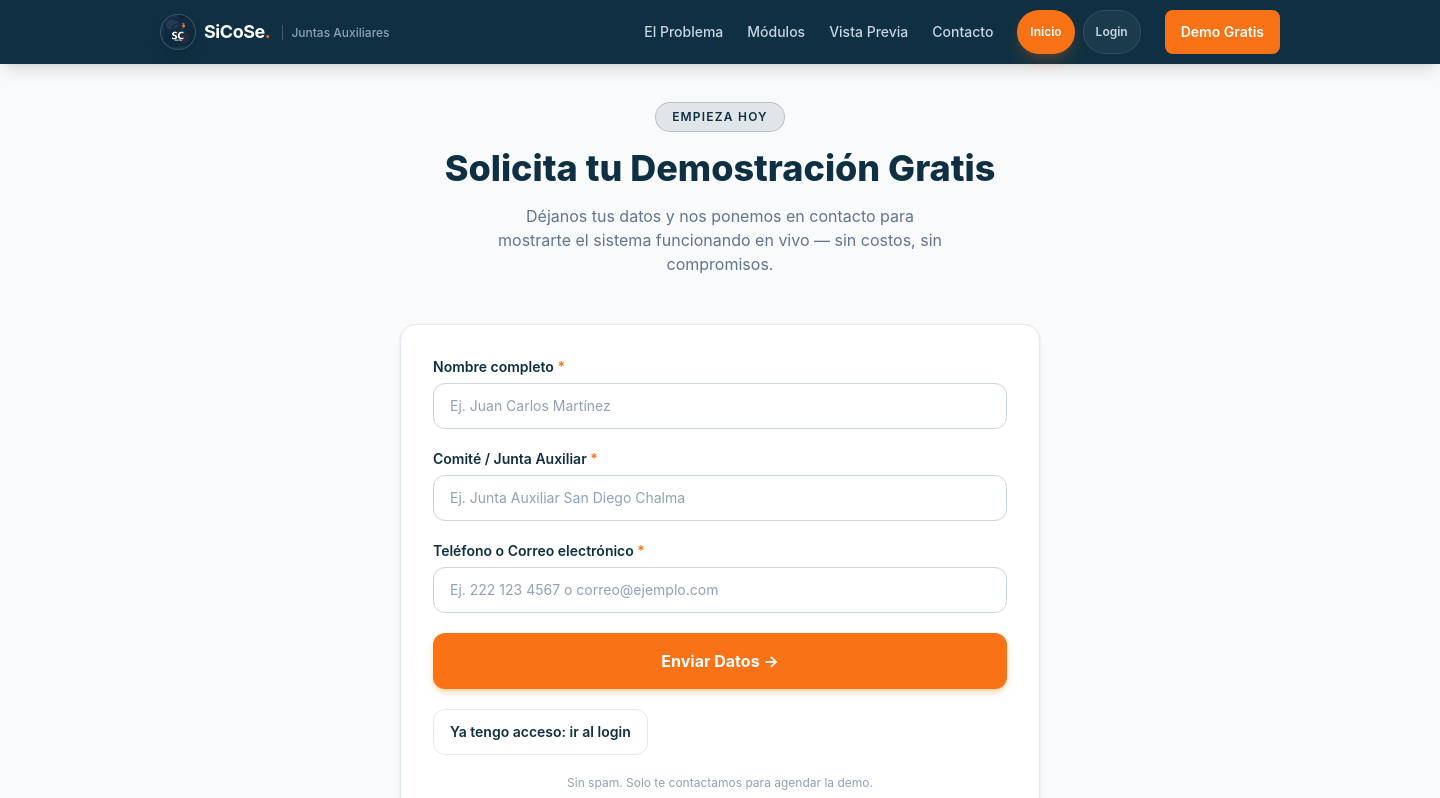
Test: LandingPage › posts contact data to the leads endpoint using the normalized payload
(page scrolled)
Type "  Juan Pérez  " into the field labelled "Nombre completo *".
click(720, 406); type("  Juan Pérez  ")  # box [433,383,1007,429]
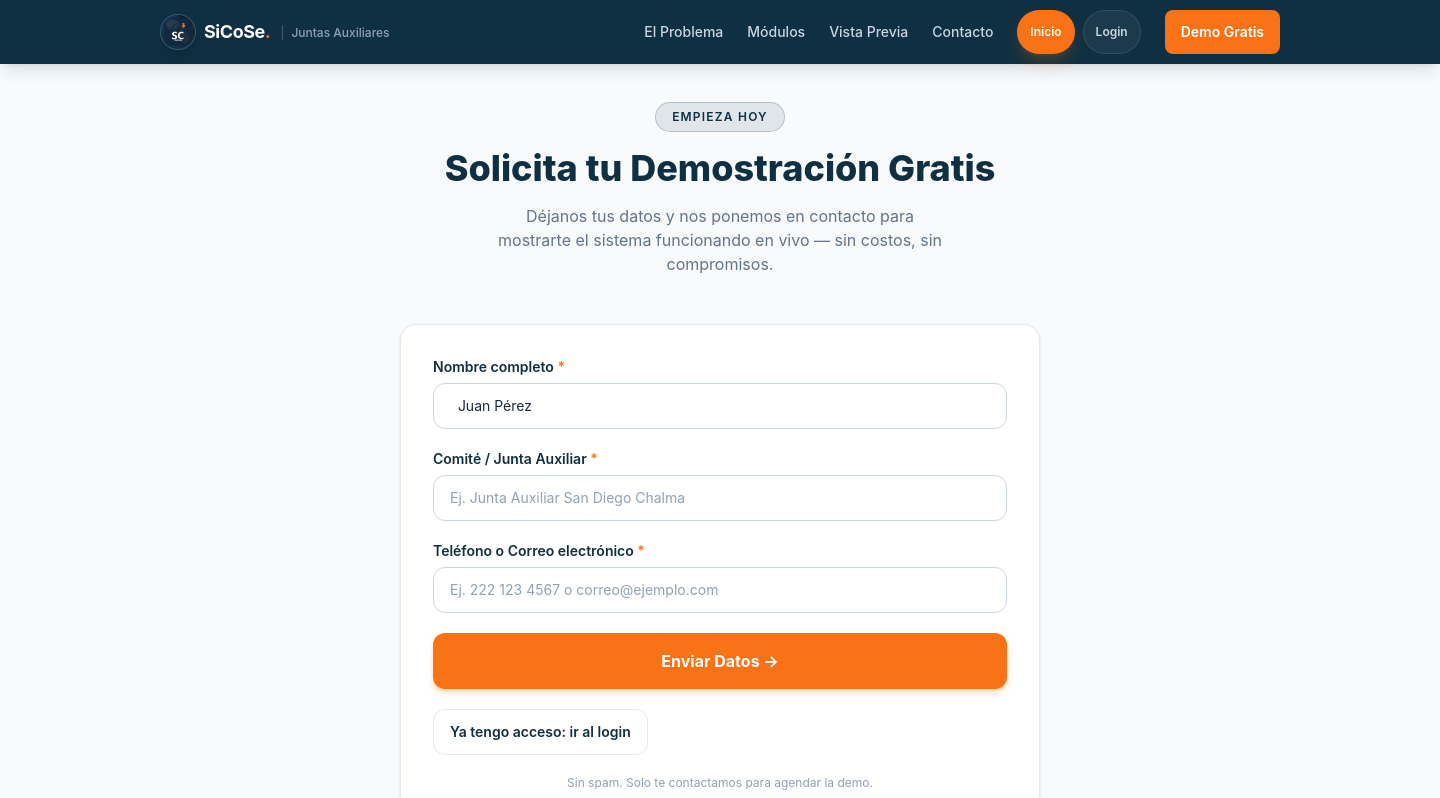
Type "  Junta Auxiliar Centro  " into the field labelled "Comité / Junta Auxiliar *".
click(720, 498); type("  Junta Auxiliar Centro  ")  # box [433,475,1007,521]
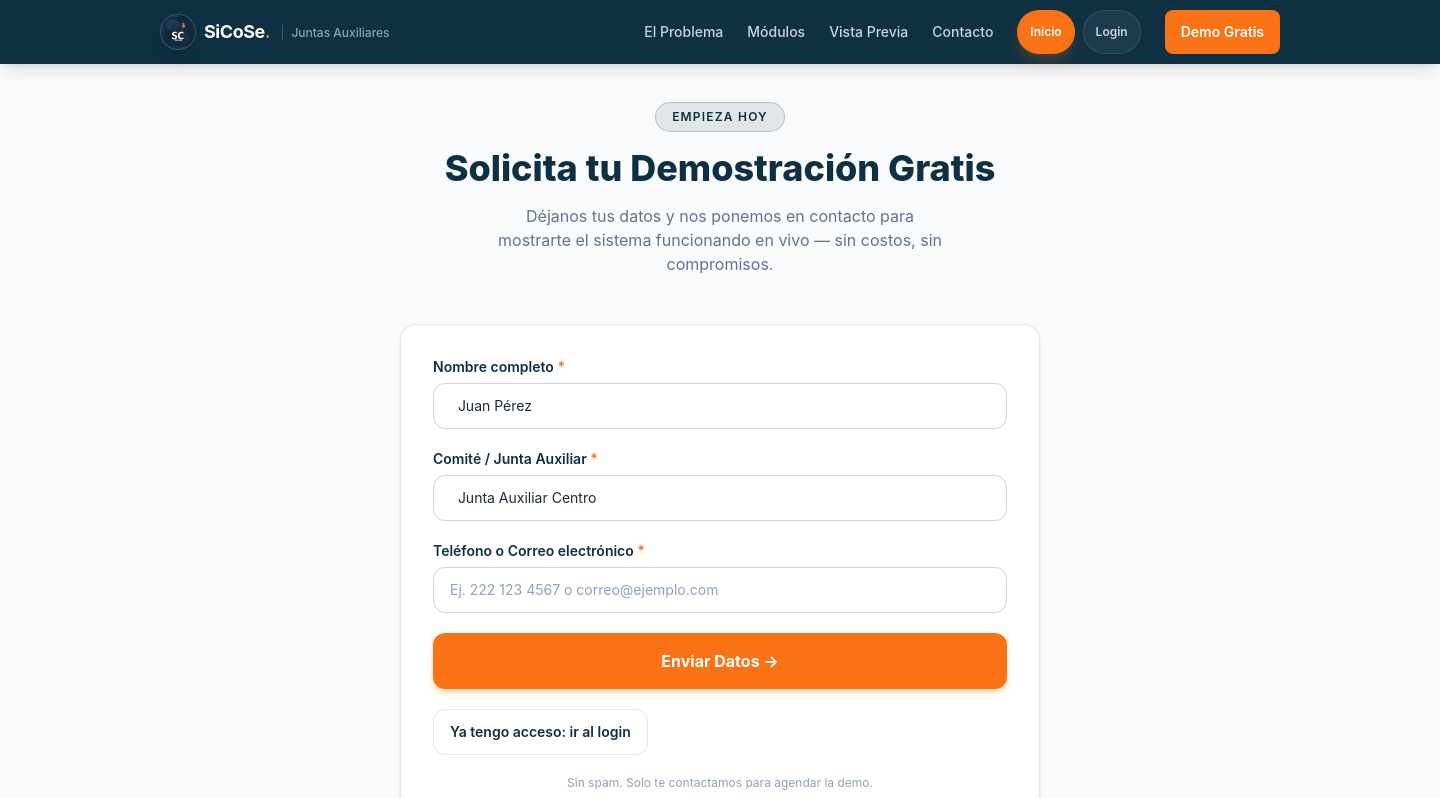
Type "  222 123 4567  " into the field labelled "Teléfono o Correo electrónico *".
click(720, 590); type("  222 123 4567  ")  # box [433,567,1007,613]
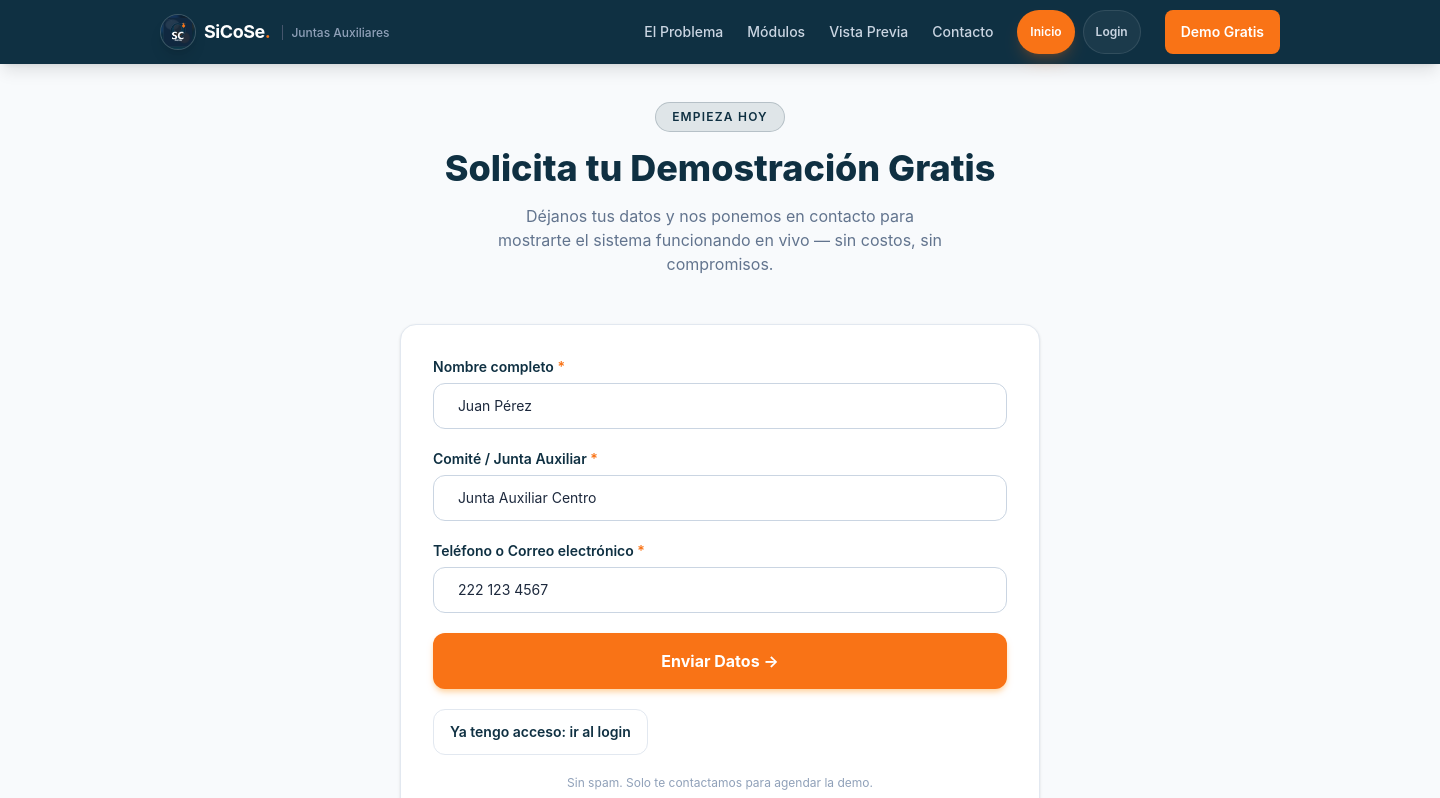
Click the button "Enviar Datos →".
click(720, 661)  # box [433,633,1007,689]
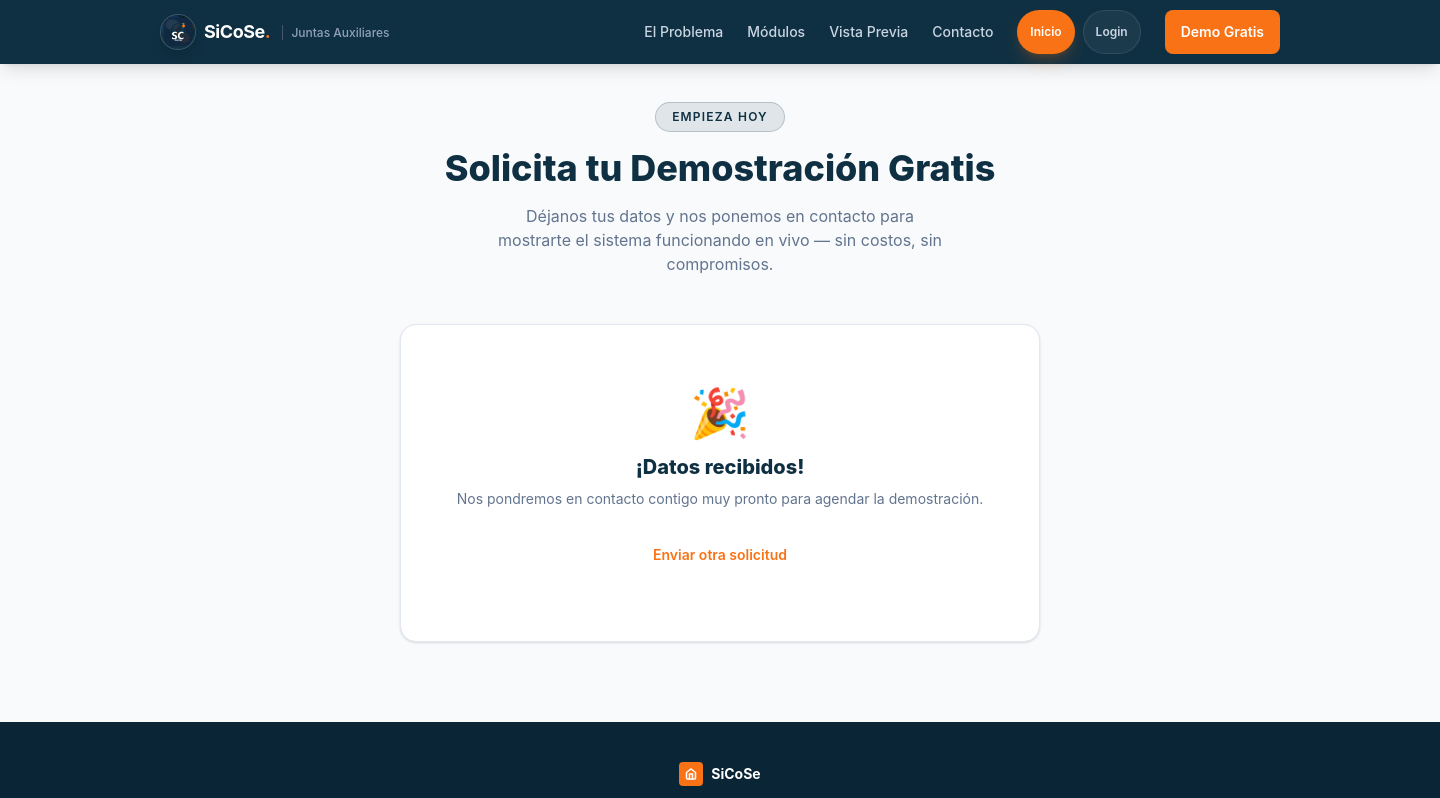
Expected: the heading "¡Datos recibidos!" is shown, [636,455,804,479]
